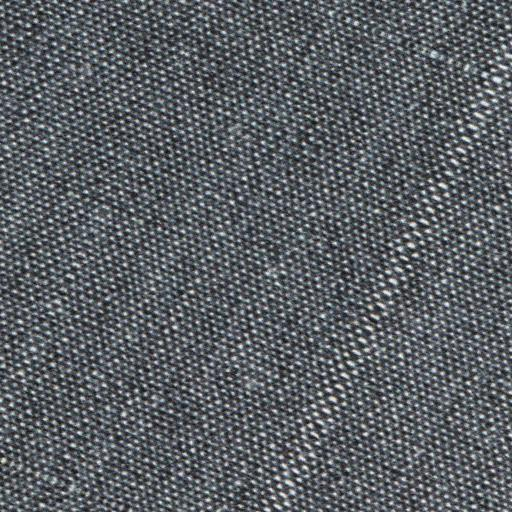slub: (263, 49, 508, 512)
